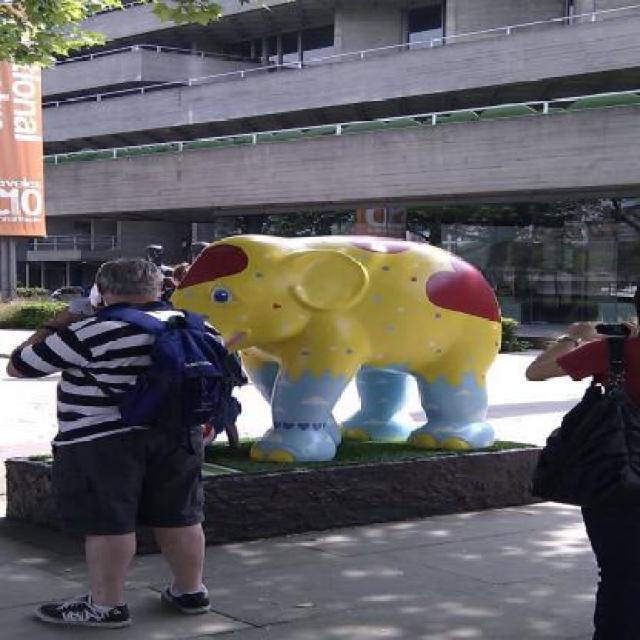Elephant: (156, 236, 467, 458)
